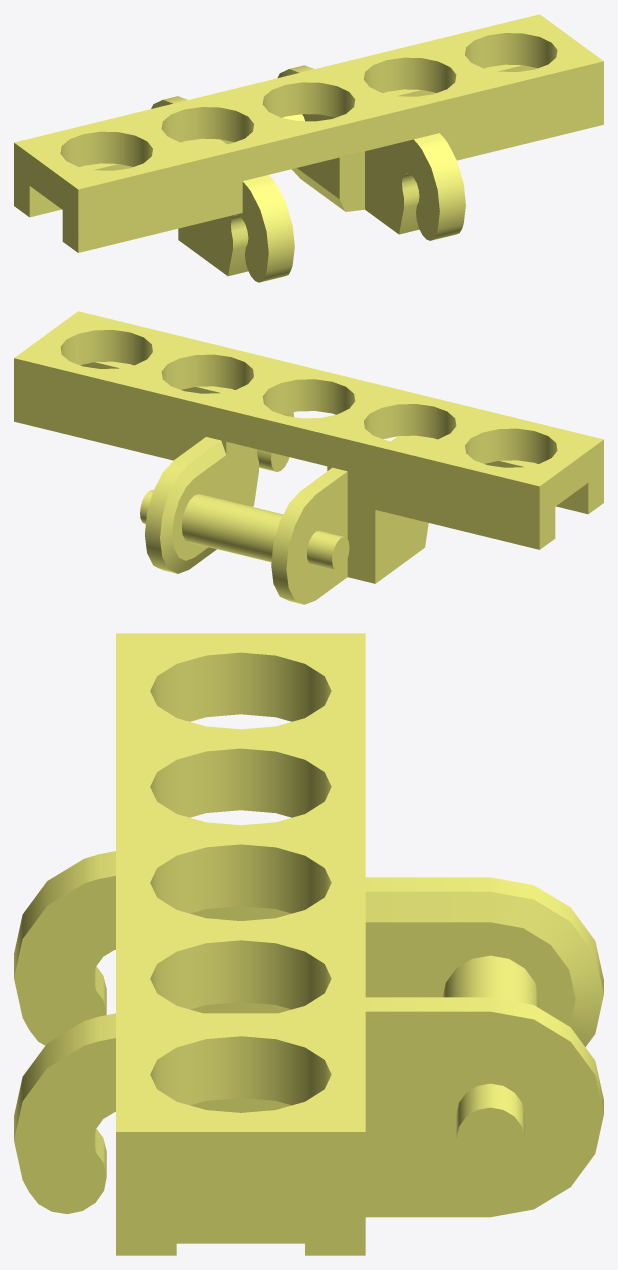
3 renders of one model, top to bottom at view 1: azimuth 30°, elevation 25°; view 2: azimuth 150°, elevation 25°; view 3: azimuth 270°, elevation 25°, orthographic. The views are drawn at different scales.
Visible parts, largest first — view 1: 3873.dat; view 2: 3873.dat; view 3: 3873.dat.
Part boxes in pixels (left/top/right/bottom): 3873.dat: left=14, top=14, right=603, bottom=282; 3873.dat: left=14, top=311, right=603, bottom=604; 3873.dat: left=14, top=633, right=603, bottom=1255.
Size of the model in its own units: 0.0208 by 0.0052 by 0.0104.
